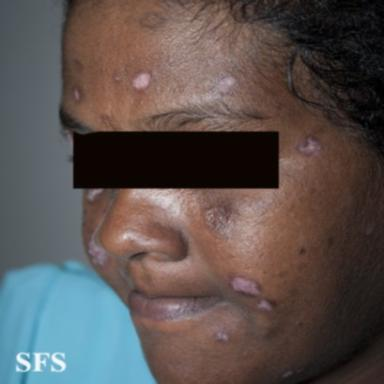Lupus-Erythematosus-Chronicus-Discoides: (87, 191, 115, 266), (202, 201, 240, 240), (230, 276, 260, 296), (297, 136, 322, 156), (216, 75, 238, 95), (131, 72, 151, 91), (86, 189, 103, 202), (257, 299, 274, 311), (215, 329, 229, 343), (73, 89, 80, 100), (282, 371, 293, 378)
